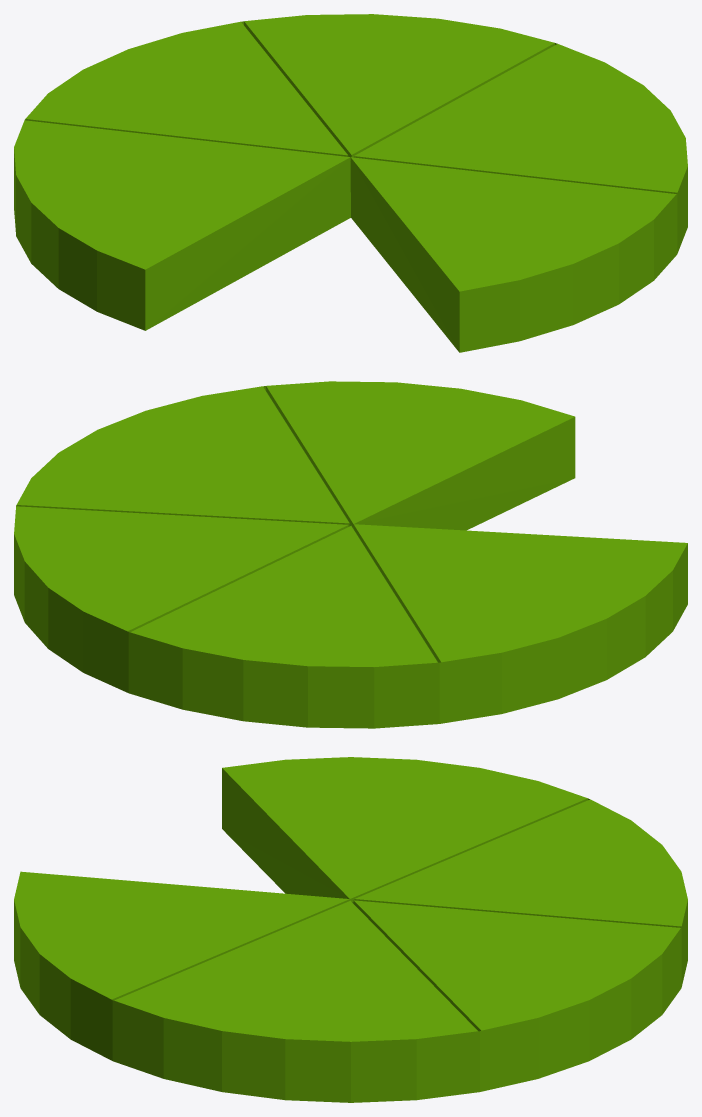
The model's file is lillyPad.dae.
3 views of the same model, one above another, from view 1: azimuth 30°, elevation 25°; view 2: azimuth 150°, elevation 25°; view 3: azimuth 270°, elevation 25° (orthographic).
Parts seen in each view (by area): view 1: Cylinder.001; view 2: Cylinder.001; view 3: Cylinder.001.
Part boxes in pixels (x1,y1,x2,y2): Cylinder.001: (14, 14, 687, 352); Cylinder.001: (14, 381, 687, 728); Cylinder.001: (14, 757, 687, 1102).
Size of the model in its own units: 2 by 2 by 0.2.
